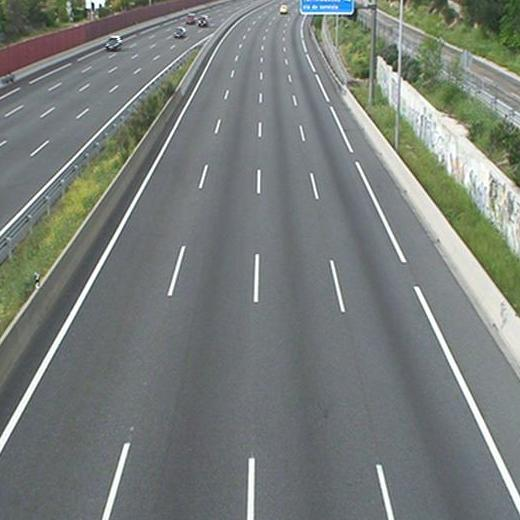car: (279, 3, 288, 13)
